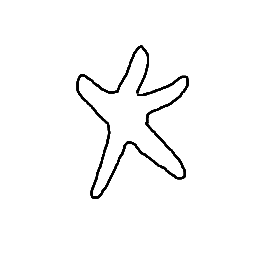starfish: (1, 1, 255, 255)
